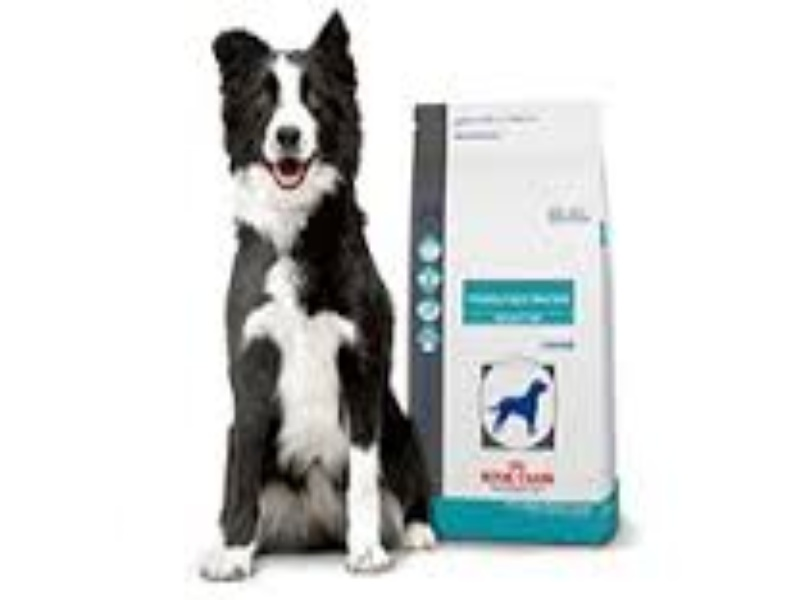dog: (194, 6, 457, 587)
